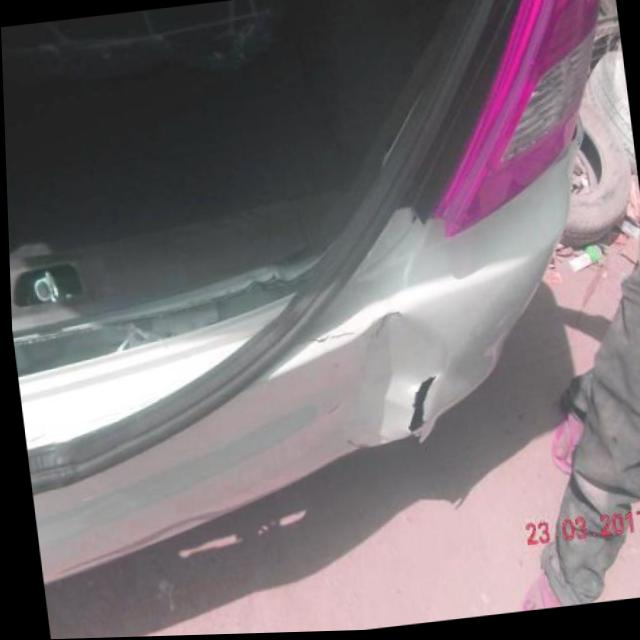Car-Damage: (323, 305, 457, 455), (397, 375, 442, 438)
